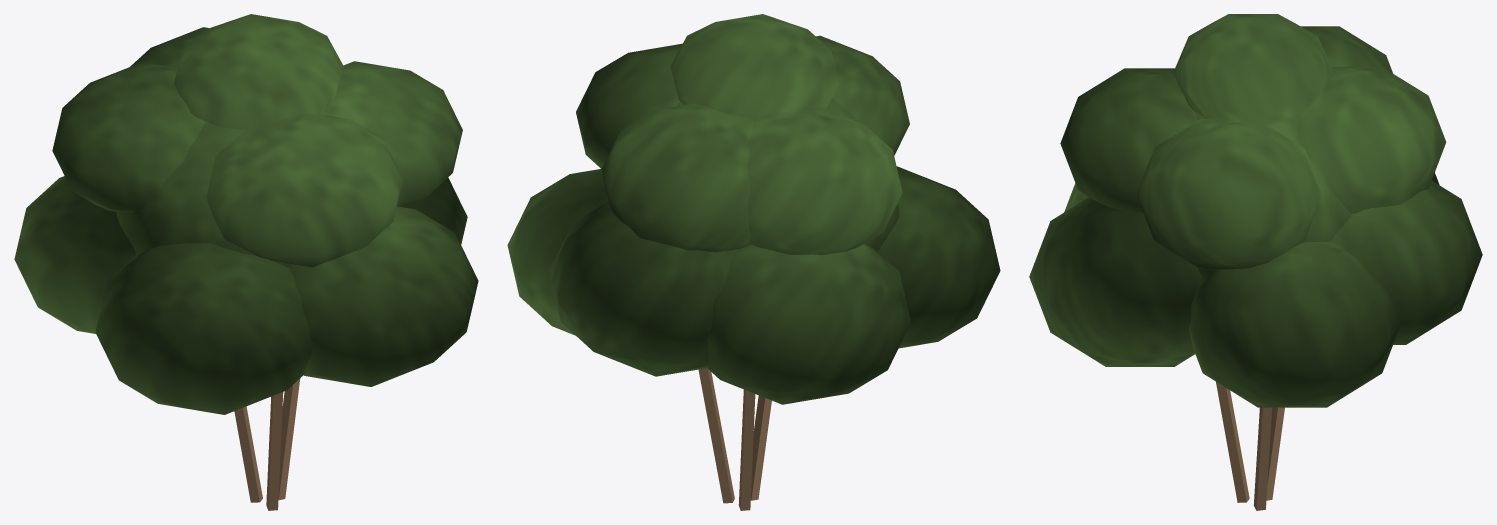
The model's file is site_tree4.fbx.
3 renders of one model, left to right at view 1: azimuth 30°, elevation 25°; view 2: azimuth 150°, elevation 25°; view 3: azimuth 270°, elevation 25°, orthographic.
Parts seen in each view (by area): view 1: a3004/0/site_tree4; view 2: a3004/0/site_tree4; view 3: a3004/0/site_tree4.
Part boxes in pixels (x1=…): a3004/0/site_tree4: x1=14, y1=14, x2=478, y2=510; a3004/0/site_tree4: x1=507, y1=14, x2=1000, y2=510; a3004/0/site_tree4: x1=1029, y1=14, x2=1482, y2=510.
Bounding box in the file's own units: 4.2 × 4.86 × 4.2.
